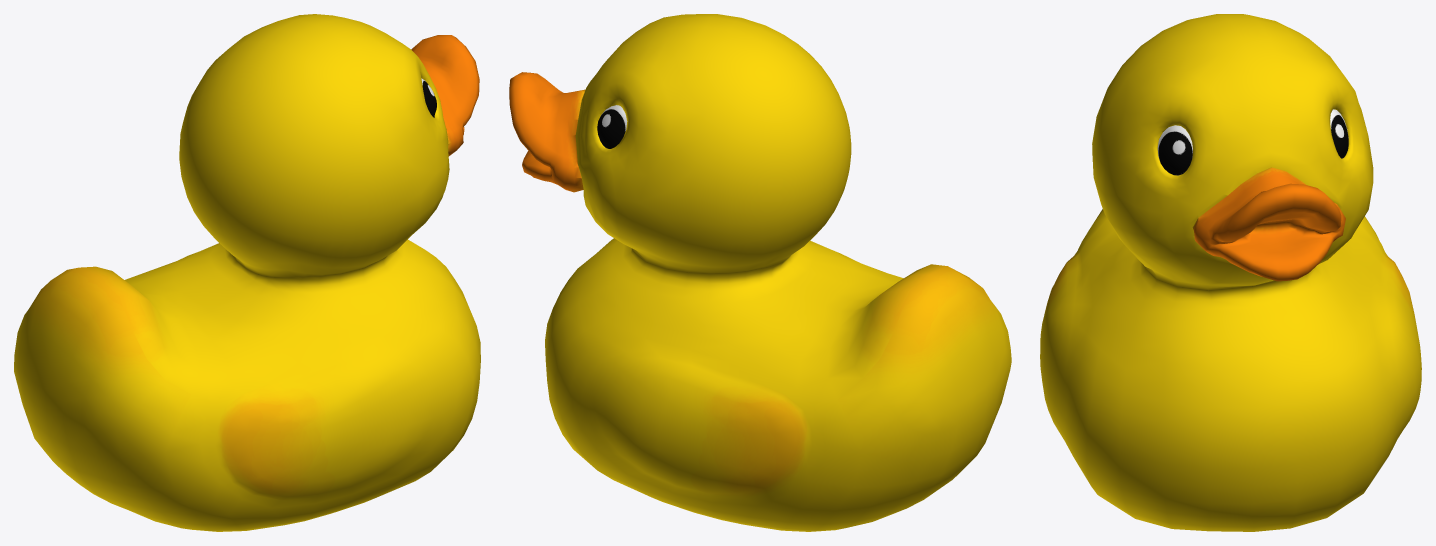
The model's file is ducky.gltf.
3 views of the same model, side by side, from view 1: azimuth 30°, elevation 25°; view 2: azimuth 150°, elevation 25°; view 3: azimuth 270°, elevation 25° (orthographic). The views are drawn at different scales.
Parts seen in each view (by area): view 1: LOD3spShape; view 2: LOD3spShape; view 3: LOD3spShape.
Boxes of the visible parts, left/top/right/bottom form: LOD3spShape: left=14, top=14, right=480, bottom=531; LOD3spShape: left=509, top=14, right=1011, bottom=531; LOD3spShape: left=1040, top=14, right=1421, bottom=531.
Bounding box in the file's own units: 1.65 × 1.54 × 1.15.
1 material, 1 textured.
